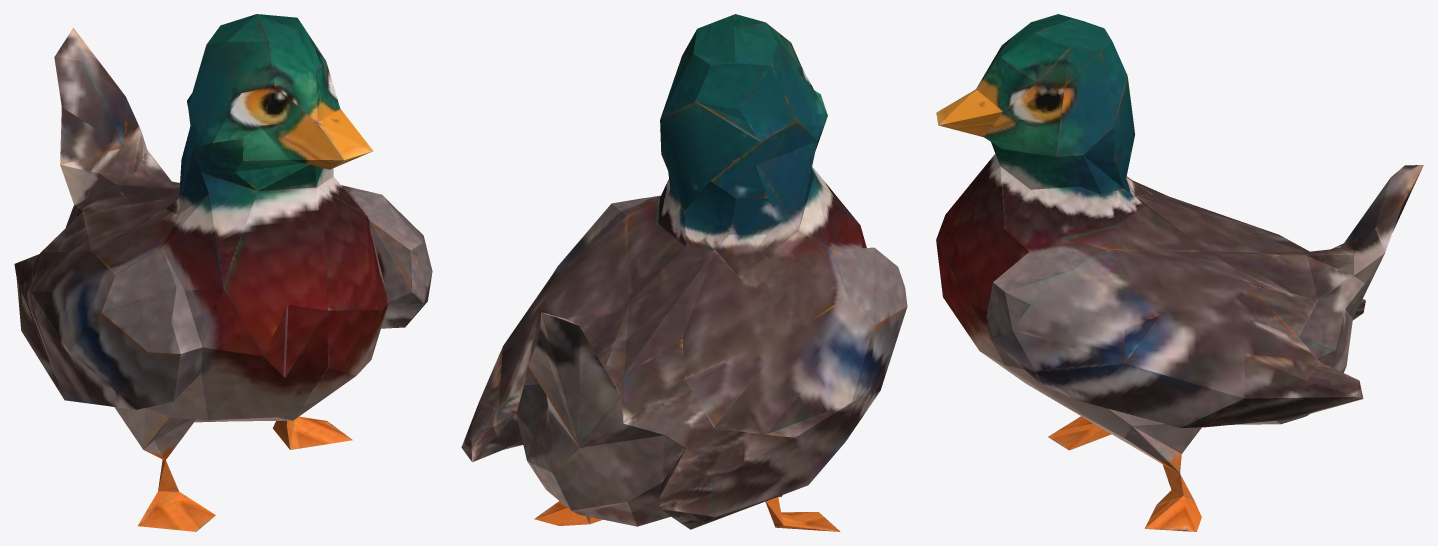
The model's file is duck-lod.glb.
The picture shows the model from 3 angles, left to right: view 1: azimuth 30°, elevation 25°; view 2: azimuth 150°, elevation 25°; view 3: azimuth 270°, elevation 25°; orthographic projection. The views are drawn at different scales.
Parts seen in each view (by area): view 1: output_unwrapped; view 2: output_unwrapped; view 3: output_unwrapped.
Boxes of the visible parts, x1,y1,x2,y2 form: output_unwrapped: [14, 14, 432, 531]; output_unwrapped: [461, 14, 907, 531]; output_unwrapped: [936, 14, 1423, 531].
Size of the model in its own units: 0.3395 by 0.5 by 0.4897.
1 material, 1 textured.
